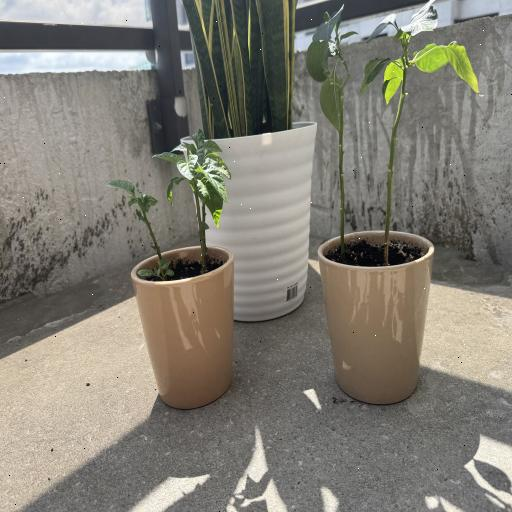Plant Pot: (181, 120, 318, 321), (320, 230, 434, 406), (130, 244, 236, 407)
